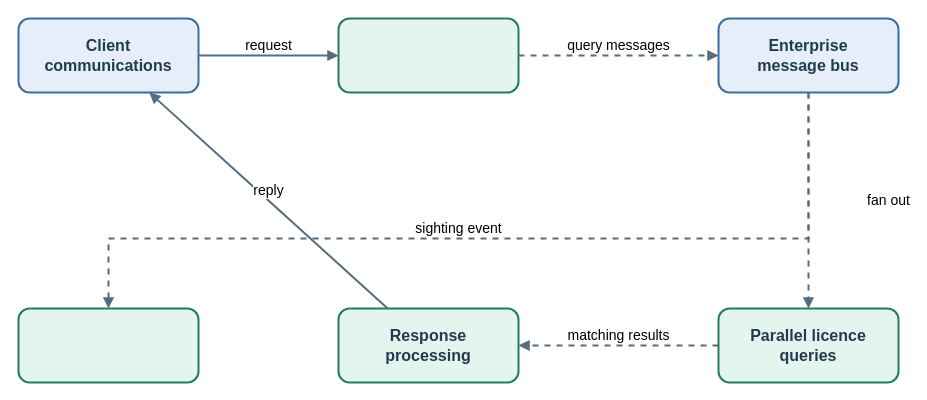
Some shapes in this 927 by 400 pixel diagram are drawn without their labels. Each missing label, with the centre of its shape:
Notifications: the point at 108,345
Request processing: the point at 428,55
